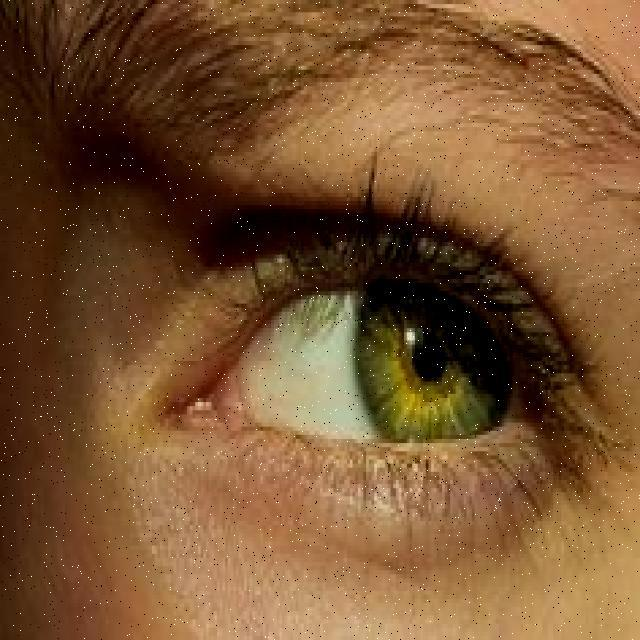Normal: (90, 185, 640, 550)
